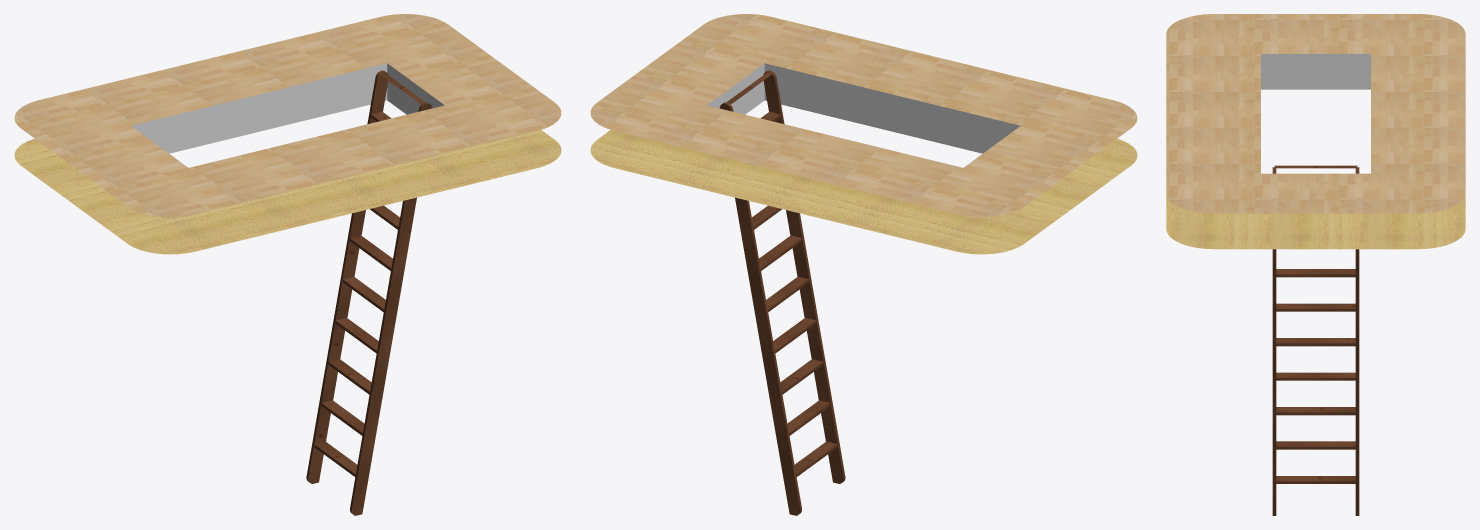
File: Vikestad-s (ladder).dae
3 renders of one model, left to right at view 1: azimuth 30°, elevation 25°; view 2: azimuth 150°, elevation 25°; view 3: azimuth 270°, elevation 25°, orthographic. The views are drawn at different scales.
Visible parts, largest first — view 1: StairCon (×5); view 2: StairCon (×5); view 3: StairCon (×12).
Boxes of the visible parts, <box> form: StairCon (×5): <box>14,14,561,515</box>; StairCon (×5): <box>590,14,1137,515</box>; StairCon (×12): <box>1166,14,1465,515</box>.
Size of what is drawn, in the model's own units: 3 by 1.9 by 2.65.
Materials: 5 (4 with a texture image).
